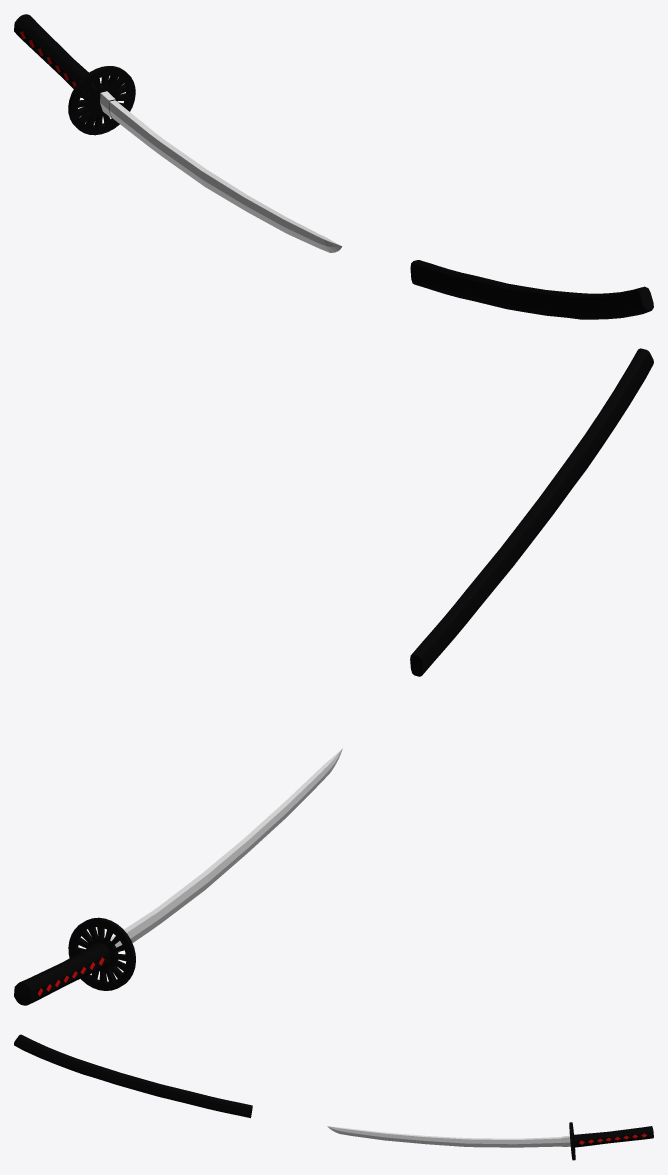
File: Katana-do-not-use.fbx
3 views of the same model, one above another, from view 1: azimuth 30°, elevation 25°; view 2: azimuth 150°, elevation 25°; view 3: azimuth 270°, elevation 25° (orthographic). The views are drawn at different scales.
Visible parts, largest first — view 1: katana blade, Katana cover, Katana hand guard; view 2: Katana cover, katana blade, Katana hand guard; view 3: Katana cover, katana blade.
Part boxes in pixels (x1,y1,x2,y2): katana blade: (14, 14, 341, 252); Katana cover: (410, 260, 653, 319); Katana hand guard: (68, 66, 135, 135); Katana cover: (410, 348, 653, 676); katana blade: (14, 748, 342, 1005); Katana hand guard: (68, 917, 135, 990); Katana cover: (14, 1034, 252, 1118); katana blade: (327, 1126, 653, 1147).
Bounding box in the file's own units: 75.03 × 269 × 1259.
